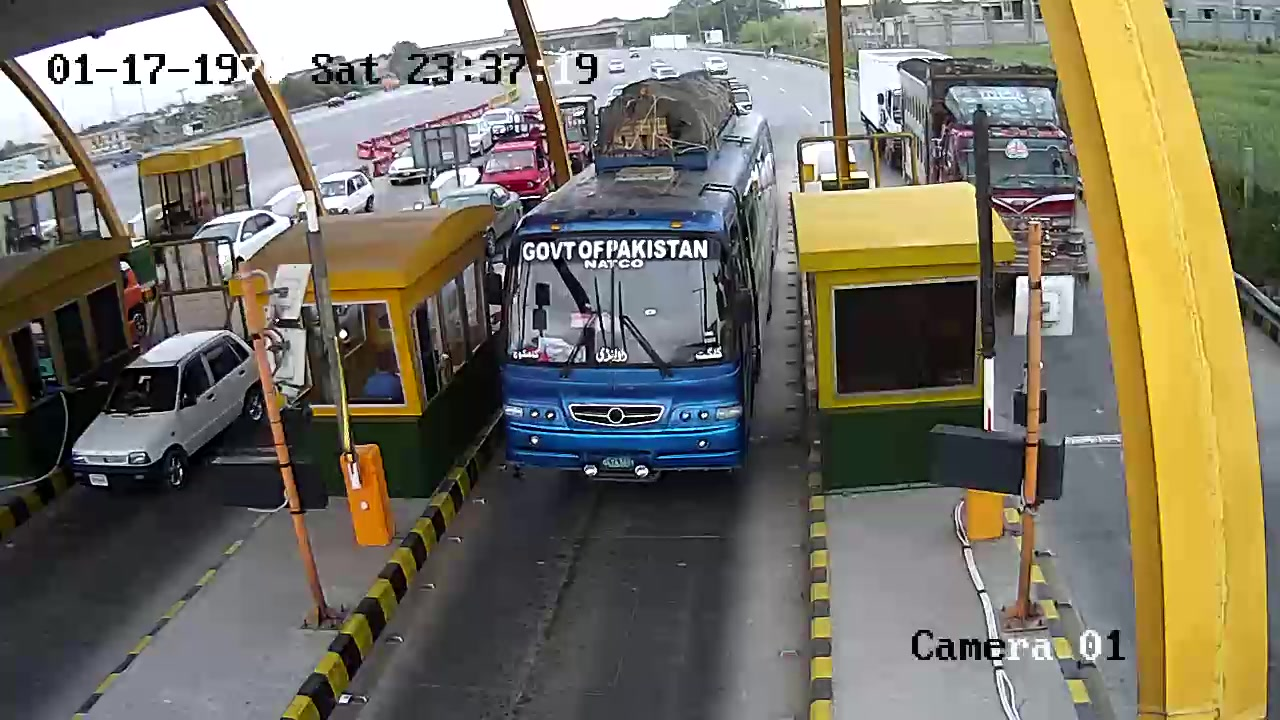F4: (500, 79, 785, 496)
